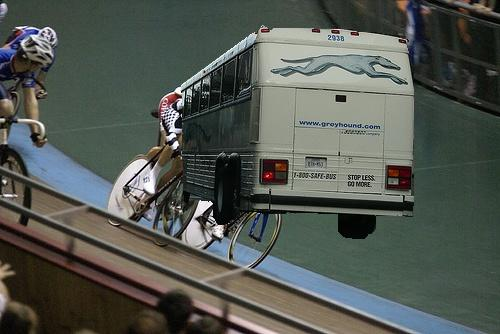tampered: (182, 26, 414, 239)
